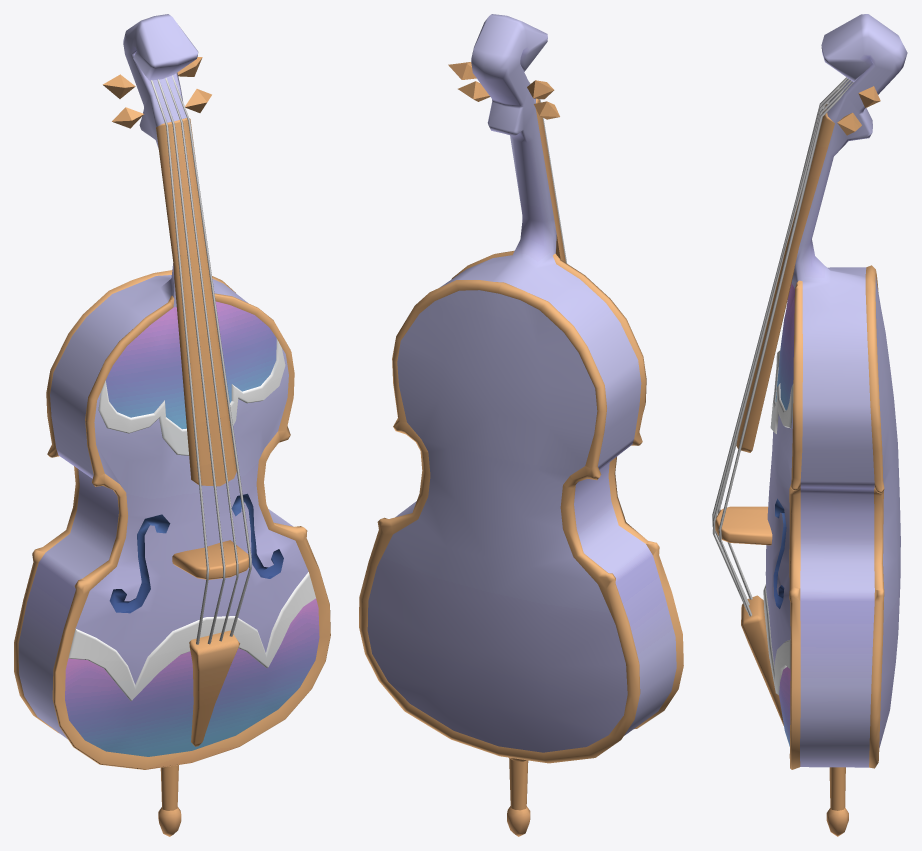
File: CharSkyKid_Prop_AP23CelloFancy__Prop_AP23CelloFancy_Inverted.glb
3 views of the same model, side by side, from view 1: azimuth 30°, elevation 25°; view 2: azimuth 150°, elevation 25°; view 3: azimuth 270°, elevation 25° (orthographic). The views are drawn at different scales.
Visible parts, largest first — view 1: CharSkyKid_Prop_AP23CelloFancy; view 2: CharSkyKid_Prop_AP23CelloFancy; view 3: CharSkyKid_Prop_AP23CelloFancy.
Part boxes in pixels (bbox=[...]): CharSkyKid_Prop_AP23CelloFancy: bbox=[14, 14, 330, 836]; CharSkyKid_Prop_AP23CelloFancy: bbox=[359, 14, 683, 836]; CharSkyKid_Prop_AP23CelloFancy: bbox=[712, 14, 907, 836].
Size of the model in its own units: 4.82 by 13.47 by 2.92.
1 material, 1 textured.
